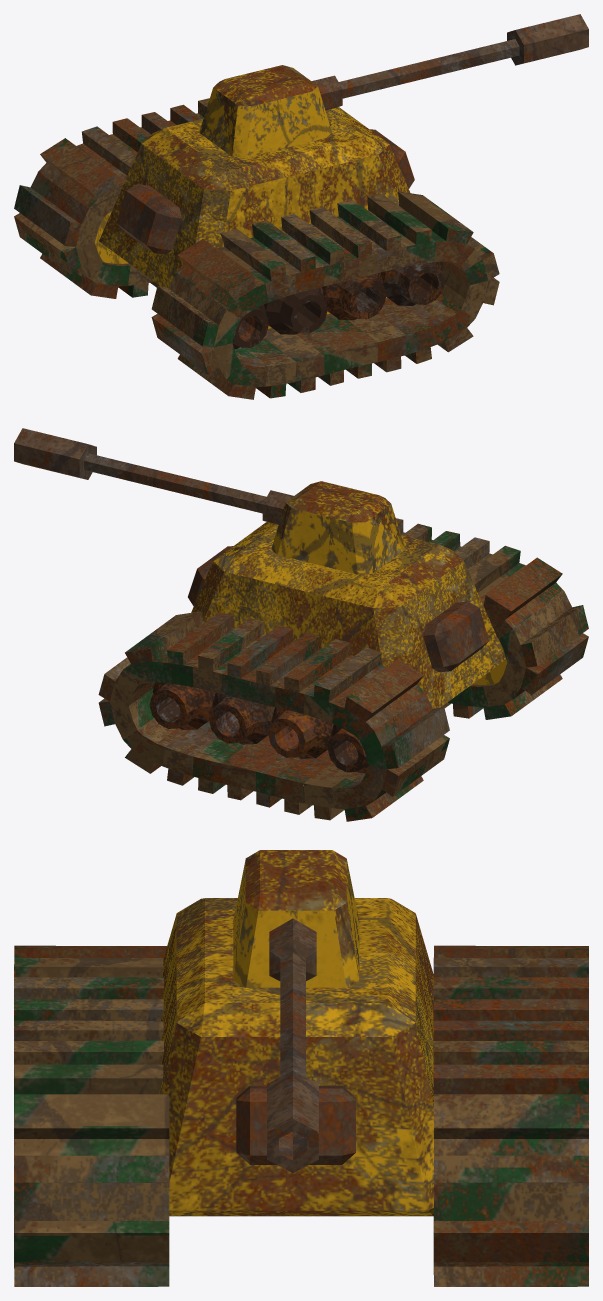
Rendered from Yellow Tank Player.glb.
3 views of the same model, one above another, from view 1: azimuth 30°, elevation 25°; view 2: azimuth 150°, elevation 25°; view 3: azimuth 270°, elevation 25° (orthographic). The views are drawn at different scales.
Visible parts, largest first — view 1: Cube.002_Cube.007, Cube.006_Cube.010, Cube.007_Cube.001, Cube.005_Cube.009, Cube.001_Cube.006, Cube.003, Cube.004_Cube.008; view 2: Cube.002_Cube.007, Cube.006_Cube.010, Cube.007_Cube.001, Cube.005_Cube.009, Cube.001_Cube.006, Cube.003; view 3: Cube.002_Cube.007, Cube.006_Cube.010, Cube.007_Cube.001, Cube.001_Cube.006, Cube.003.
Part boxes in pixels (bbox=[...]): Cube.002_Cube.007: bbox=[14, 98, 499, 399]; Cube.006_Cube.010: bbox=[99, 107, 410, 287]; Cube.007_Cube.001: bbox=[199, 65, 331, 157]; Cube.005_Cube.009: bbox=[232, 262, 444, 348]; Cube.001_Cube.006: bbox=[311, 14, 588, 110]; Cube.003: bbox=[116, 129, 414, 254]; Cube.004_Cube.008: bbox=[95, 212, 386, 328]; Cube.002_Cube.007: bbox=[98, 518, 588, 821]; Cube.006_Cube.010: bbox=[191, 522, 506, 708]; Cube.007_Cube.001: bbox=[271, 481, 405, 574]; Cube.005_Cube.009: bbox=[149, 682, 368, 773]; Cube.001_Cube.006: bbox=[14, 428, 293, 524]; Cube.003: bbox=[188, 546, 488, 672]; Cube.002_Cube.007: bbox=[14, 945, 588, 1286]; Cube.006_Cube.010: bbox=[159, 898, 433, 1216]; Cube.007_Cube.001: bbox=[233, 850, 359, 987]; Cube.001_Cube.006: bbox=[267, 918, 318, 1172]; Cube.003: bbox=[236, 1085, 355, 1164].
Bounding box in the file's own units: 31.96 × 15.02 × 22.24.
Materials: 1 (1 with a texture image).
